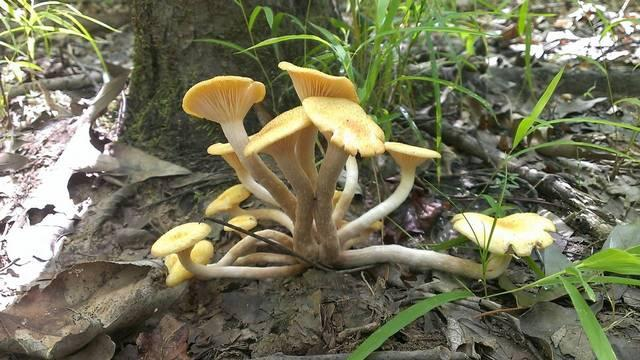Edible Mushroom: (150, 60, 555, 286)
